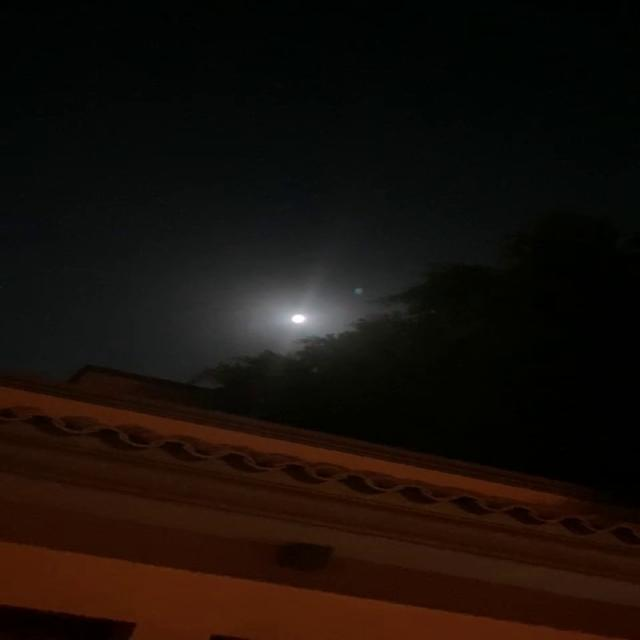moon: (263, 300, 318, 326)
